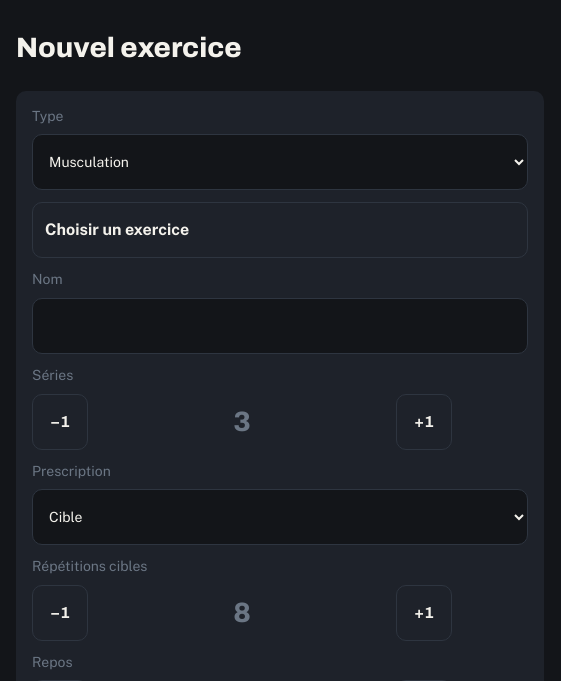
Test: édition d'un élément de programme › refuse d'enregistrer un élément strength sans exercice sélectionné
expect the button "Choisir un exercice" is shown: met, box [32,202,528,258]
In the field labelled "Nom": x=280, y=326 [32,298,528,354], type "Musculation"
(page scrolled)
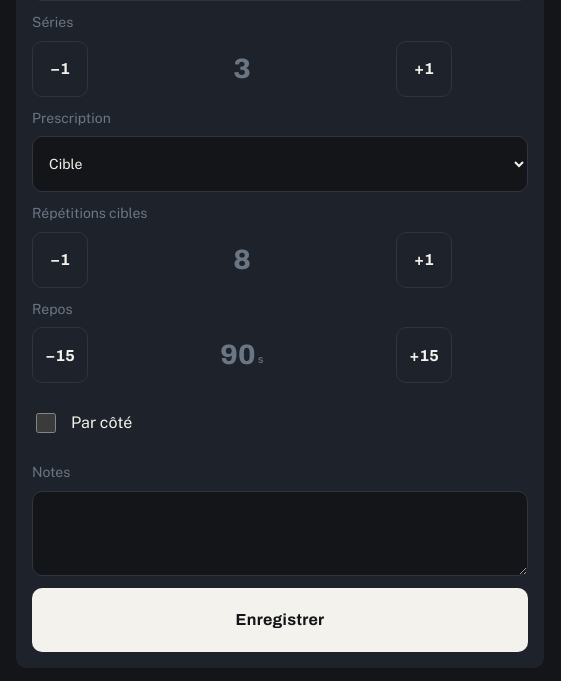
Click the button "Enregistrer": x=280, y=620 [32,588,528,652]
(page scrolled)
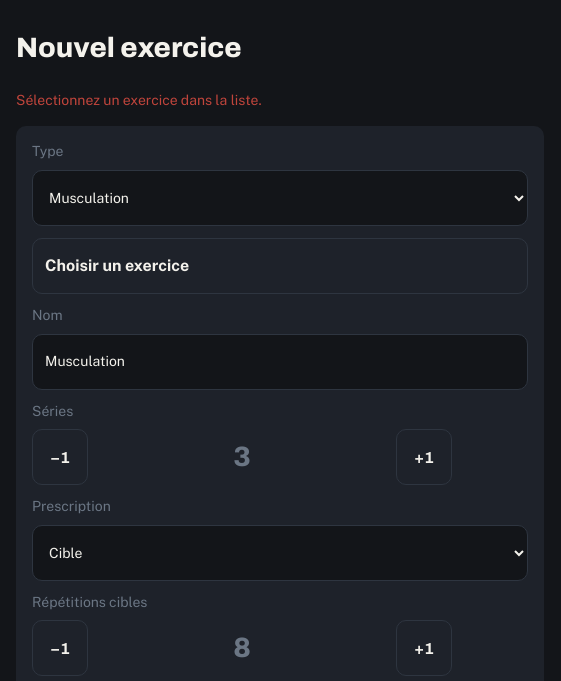
expect the message reads "Sélectionnez un exercice dans la liste.": met, box [16,92,262,108]
